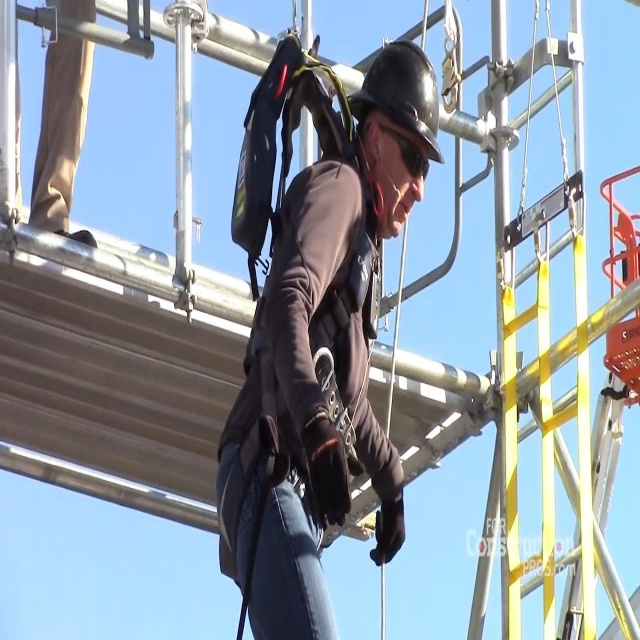Arnes_seguridad: (196, 48, 380, 585)
